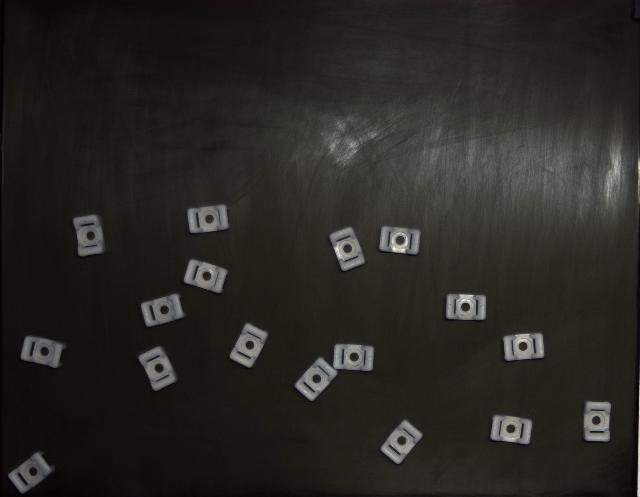first_side: (9, 452, 55, 494), (295, 358, 338, 401), (380, 420, 422, 464), (139, 346, 178, 391), (230, 324, 269, 368), (329, 228, 365, 271), (184, 260, 229, 294), (20, 336, 66, 369), (141, 294, 185, 328), (72, 215, 105, 258), (490, 415, 532, 445), (188, 205, 230, 234), (379, 226, 421, 255), (502, 334, 545, 361), (445, 294, 486, 321), (584, 401, 611, 442), (334, 344, 374, 371)
